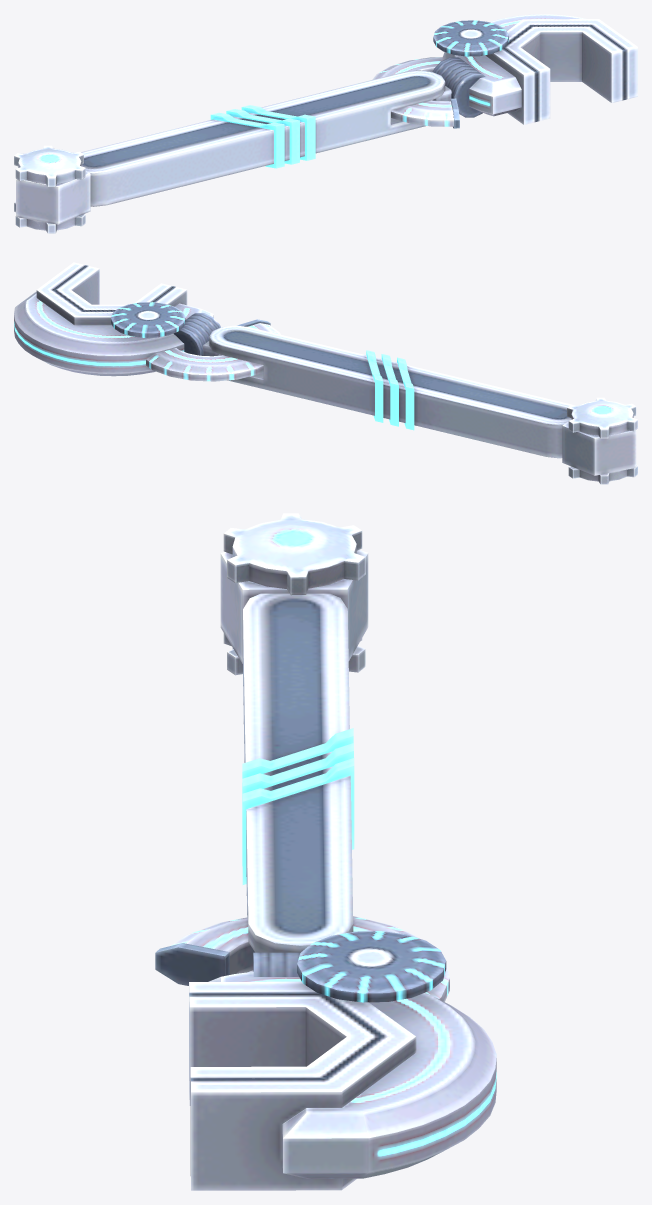
File: obj_wrench.gltf
3 views of the same model, one above another, from view 1: azimuth 30°, elevation 25°; view 2: azimuth 150°, elevation 25°; view 3: azimuth 270°, elevation 25° (orthographic). The views are drawn at different scales.
Visible parts, largest first — view 1: obj_wrench; view 2: obj_wrench; view 3: obj_wrench.
Part boxes in pixels (bbox=[...]): obj_wrench: bbox=[14, 14, 637, 233]; obj_wrench: bbox=[14, 262, 637, 484]; obj_wrench: bbox=[155, 513, 496, 1190].
Size of what is drawn, in the model's own units: 1.19 by 0.1213 by 0.292.
Materials: 1 (1 with a texture image).
